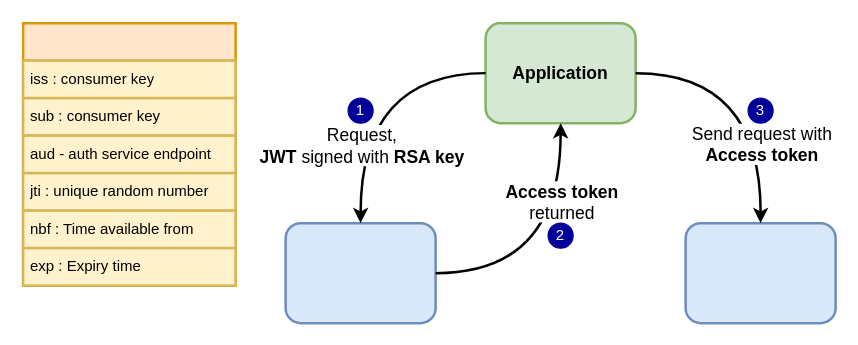
The diagram is 858 pixels wide and 345 high, and some of its shapes have lost their labels. Here are the shapes that lost their labels. From the top down, the box of each, then its label:
(21, 21, 236, 286): JWT
(284, 221, 436, 324): Authentication Service
(684, 221, 836, 324): API Service
